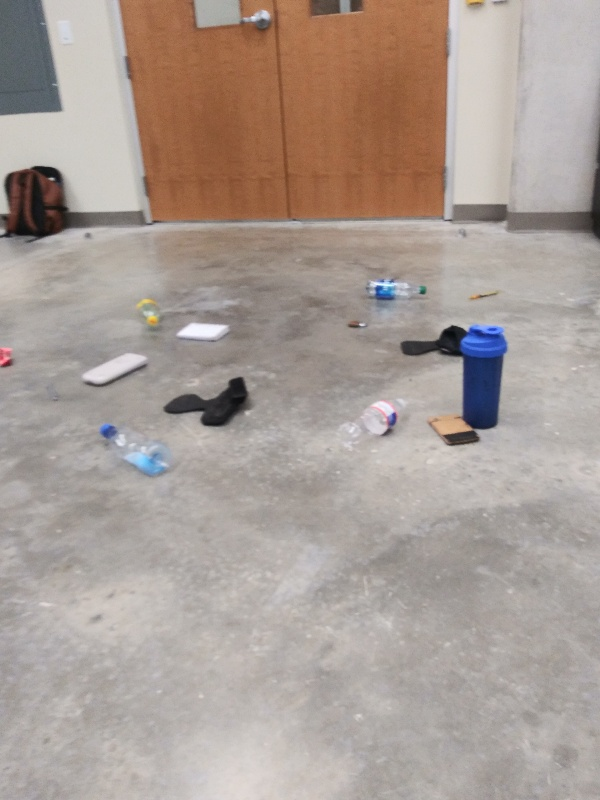bottle: (334, 392, 411, 455), (96, 420, 172, 478), (361, 274, 430, 304), (130, 292, 163, 330)
